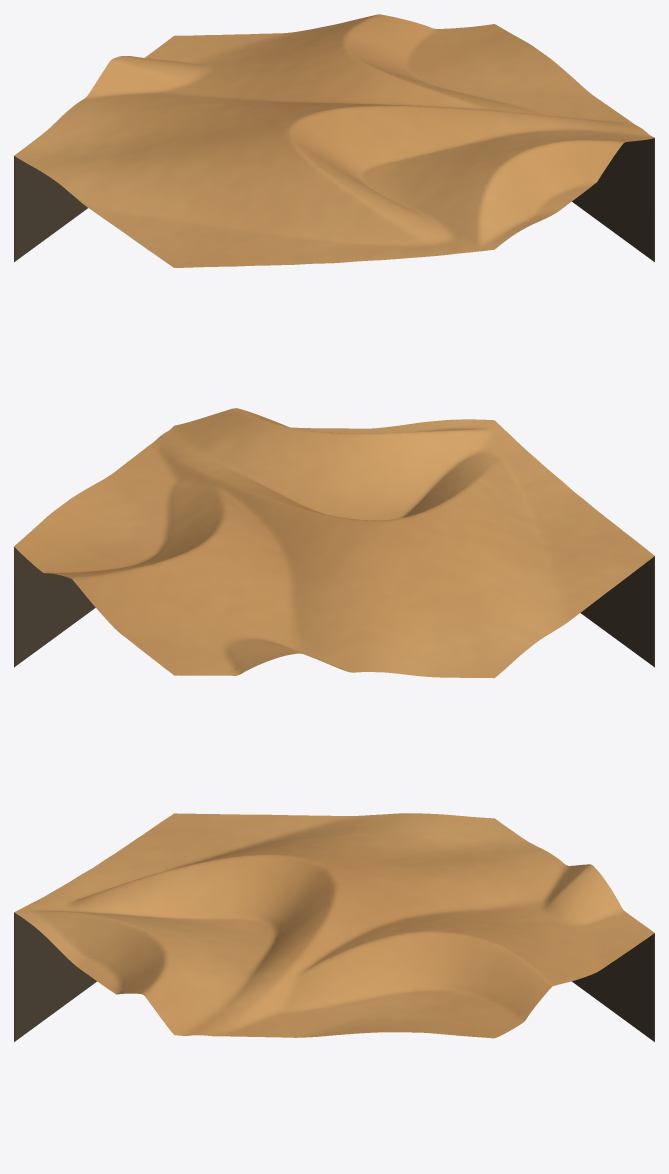
3 views of the same model, one above another, from view 1: azimuth 30°, elevation 25°; view 2: azimuth 150°, elevation 25°; view 3: azimuth 270°, elevation 25° (orthographic).
Visible parts, largest first — view 1: terrain, hex_side_cut; view 2: terrain, hex_side_cut; view 3: terrain, hex_side_cut.
Part boxes in pixels (x1,y1,x2,y2): terrain: (14,14,654,267); hex_side_cut: (14,138,654,261); terrain: (14,408,654,678); hex_side_cut: (14,547,654,667); terrain: (14,813,654,1038); hex_side_cut: (14,912,654,1041).
Bounding box in the file's own units: 4330 × 1329 × 5000.
